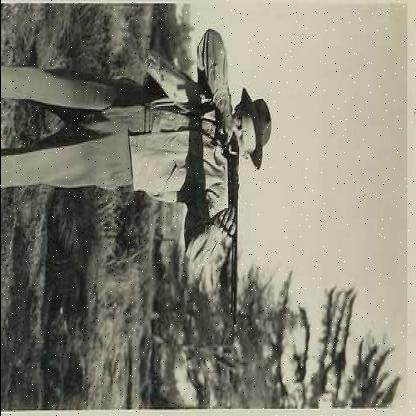rifle: (204, 99, 256, 356)
